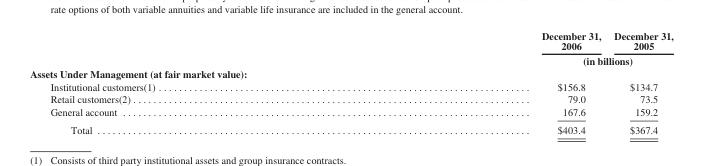table: (29, 29, 672, 135)
table column: (29, 29, 347, 135), (347, 29, 606, 135), (606, 29, 672, 135)
table column header: (29, 29, 672, 66)
table projected row header: (29, 66, 672, 79)
table row: (29, 29, 672, 52), (29, 105, 672, 120), (29, 120, 672, 135), (29, 52, 672, 66), (29, 66, 672, 79), (29, 79, 672, 92), (29, 92, 672, 105)
table spanning cell: (347, 52, 672, 66)
